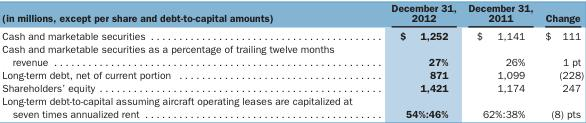table: (1, 1, 583, 119)
table column: (1, 1, 371, 119), (371, 1, 461, 119), (461, 1, 538, 119), (538, 1, 583, 119)
table column header: (1, 1, 583, 26)
table row: (1, 42, 583, 68), (1, 1, 583, 26), (1, 94, 583, 119), (1, 26, 583, 42), (1, 68, 583, 81), (1, 81, 583, 94)
